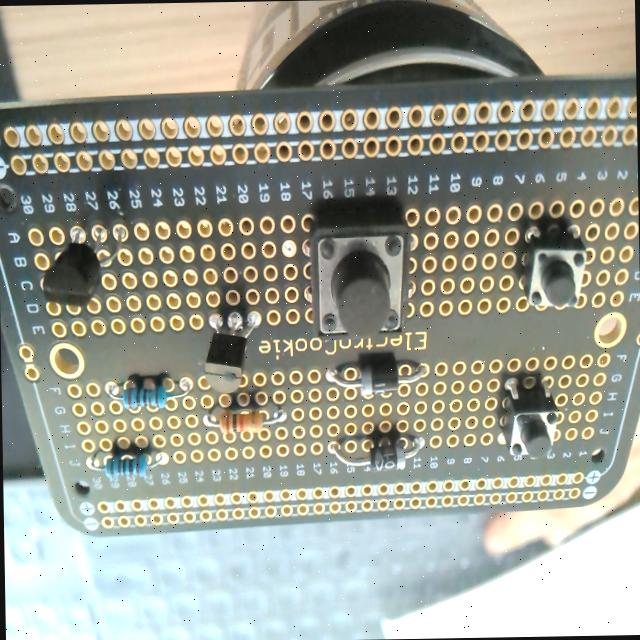diode: (326, 432, 426, 473), (322, 360, 426, 399), (203, 396, 284, 434)
resistor: (123, 376, 167, 409), (105, 454, 146, 481)
switch: (309, 211, 411, 343), (520, 225, 588, 311), (498, 378, 560, 462)
transistor: (42, 225, 123, 311), (199, 308, 263, 396)
